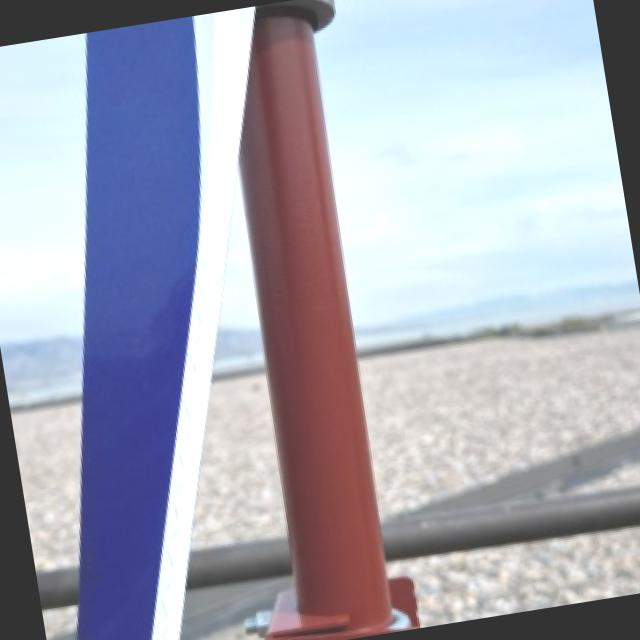healthy: (0, 33, 87, 338)
